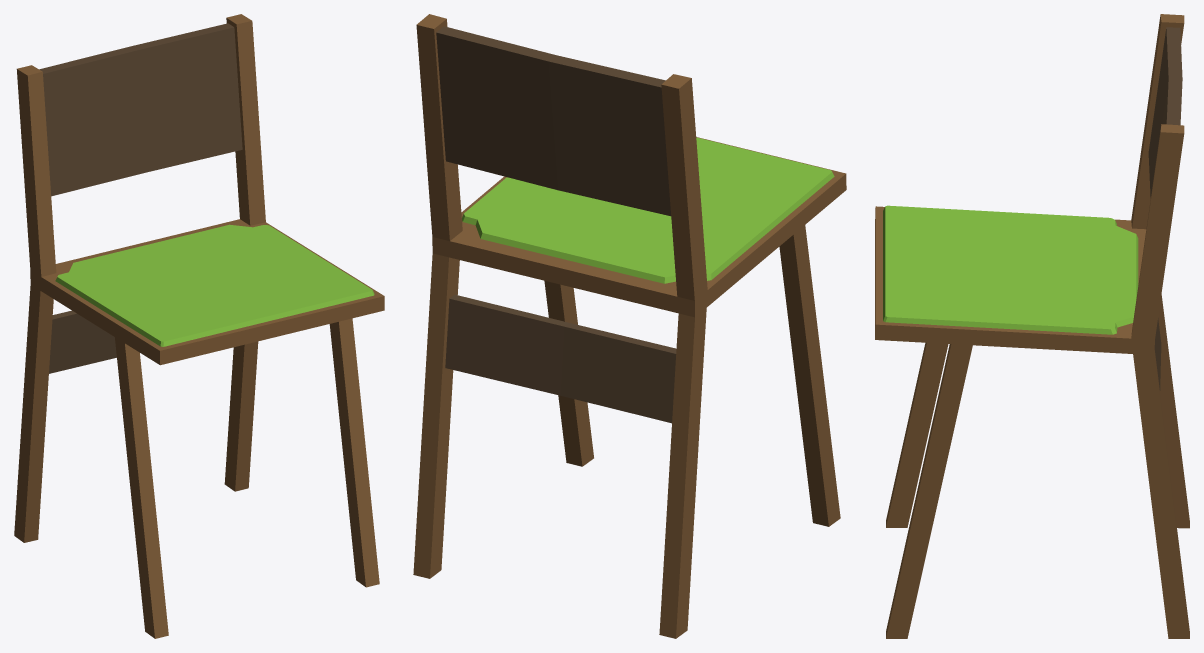
Rendered from chair_3.fbx.
The picture shows the model from 3 angles, left to right: view 1: azimuth 30°, elevation 25°; view 2: azimuth 150°, elevation 25°; view 3: azimuth 270°, elevation 25°; orthographic projection. The views are drawn at different scales.
Visible parts, largest first — view 1: chair_3; view 2: chair_3; view 3: chair_3.
Boxes of the visible parts, bbox=[...] form: chair_3: bbox=[14, 14, 384, 638]; chair_3: bbox=[413, 14, 846, 638]; chair_3: bbox=[875, 14, 1189, 638].
Size of the model in its own units: 43.9 by 87.78 by 49.42.
